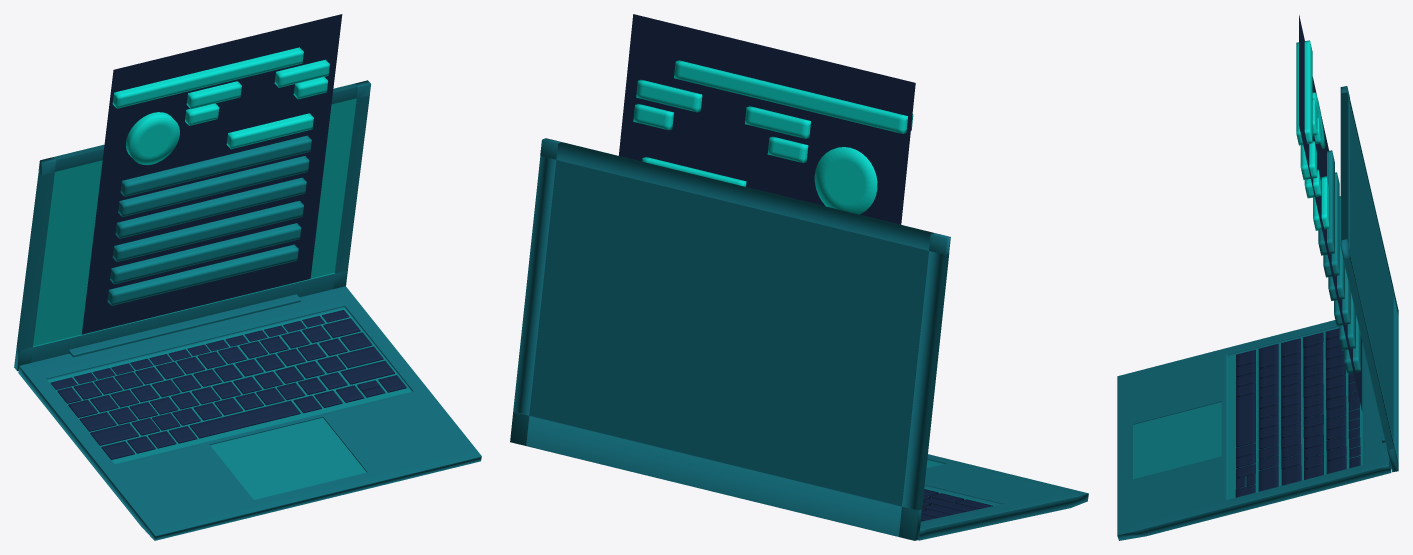
File: web-dev.glb
3 renders of one model, left to right at view 1: azimuth 30°, elevation 25°; view 2: azimuth 150°, elevation 25°; view 3: azimuth 270°, elevation 25°, orthographic. The views are drawn at different scales.
Visible parts, largest first — view 1: Cube.019, Plane.017, Cube.011, Plane.016, Cube.022, Cube.014, Cube.017, Cube.015, Cube.024, Cube.016, Cube.018, Circle (+5 smaller); view 2: Plane.016, Plane.017, Cube.019, Cube.024, Circle, Cube.013, Cube.021, Cube.011, Cube.012, Cube.023; view 3: Cube.019, Cube.011, Plane.016, Plane.017, Cube.024, Cube.022, Cube.018, Cube.020, Cube.017, Cube.021, Cube.015, Cube.016 (+1 smaller).
Part boxes in pixels (x1,y1,x2,y2): Cube.019: [18, 286, 481, 540]; Plane.017: [81, 14, 342, 334]; Cube.011: [50, 310, 406, 459]; Plane.016: [14, 80, 370, 371]; Cube.022: [120, 135, 311, 196]; Cube.014: [107, 244, 298, 305]; Cube.017: [115, 177, 306, 238]; Cube.015: [110, 223, 301, 284]; Cube.024: [112, 47, 303, 108]; Cube.016: [112, 200, 303, 261]; Cube.018: [118, 156, 309, 216]; Circle: [126, 112, 179, 165]; Plane.016: [510, 138, 950, 540]; Plane.017: [618, 14, 915, 224]; Cube.019: [917, 454, 1088, 540]; Cube.024: [674, 60, 913, 133]; Circle: [814, 147, 877, 214]; Cube.013: [745, 106, 810, 138]; Cube.021: [636, 79, 702, 112]; Cube.011: [921, 489, 993, 521]; Cube.012: [767, 136, 808, 163]; Cube.023: [633, 103, 673, 130]; Cube.019: [1117, 320, 1391, 540]; Cube.011: [1235, 328, 1360, 497]; Plane.016: [1340, 86, 1398, 472]; Plane.017: [1299, 15, 1362, 411]; Cube.024: [1296, 40, 1312, 145]; Cube.022: [1318, 150, 1334, 255]; Cube.018: [1323, 172, 1339, 277]; Cube.020: [1313, 176, 1329, 230]; Cube.017: [1328, 196, 1344, 300]; Cube.021: [1300, 141, 1317, 179]; Cube.015: [1339, 292, 1355, 350]; Cube.016: [1334, 267, 1350, 326].
Bounding box in the file's own units: 4.25 × 4.87 × 3.17.
